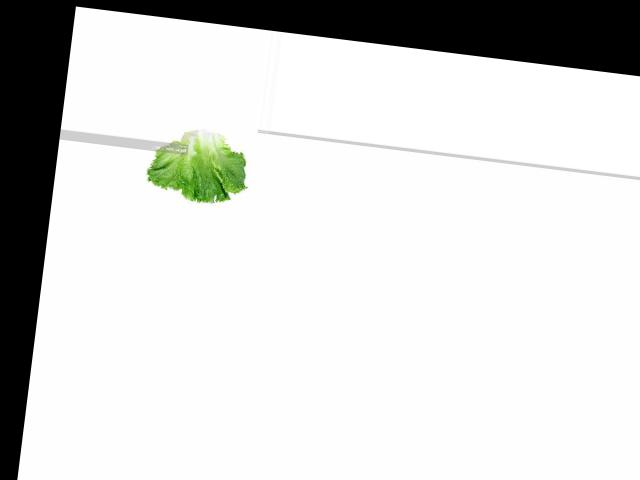lettuce: (148, 123, 252, 206)
